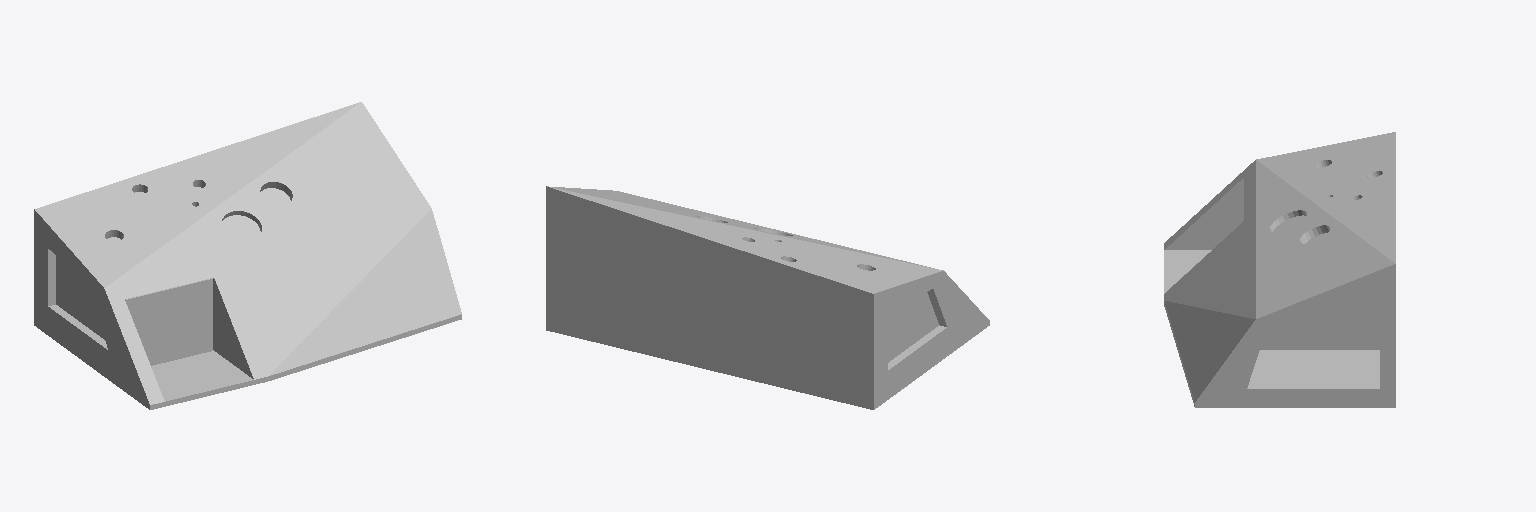
Rendered from flatHouse.obj.
3 views of the same model, side by side, from view 1: azimuth 30°, elevation 25°; view 2: azimuth 150°, elevation 25°; view 3: azimuth 270°, elevation 25° (orthographic).
Parts seen in each view (by area): view 1: tree_house_ground_tree_house.001; view 2: tree_house_ground_tree_house.001; view 3: tree_house_ground_tree_house.001.
Part boxes in pixels (x1,y1,x2,y2): tree_house_ground_tree_house.001: (34,102,461,409); tree_house_ground_tree_house.001: (546,186,989,409); tree_house_ground_tree_house.001: (1164,132,1395,407).
Size of the model in its own units: 12.22 by 5.14 by 7.48.